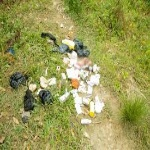Uncultivated: (4, 3, 146, 146)
